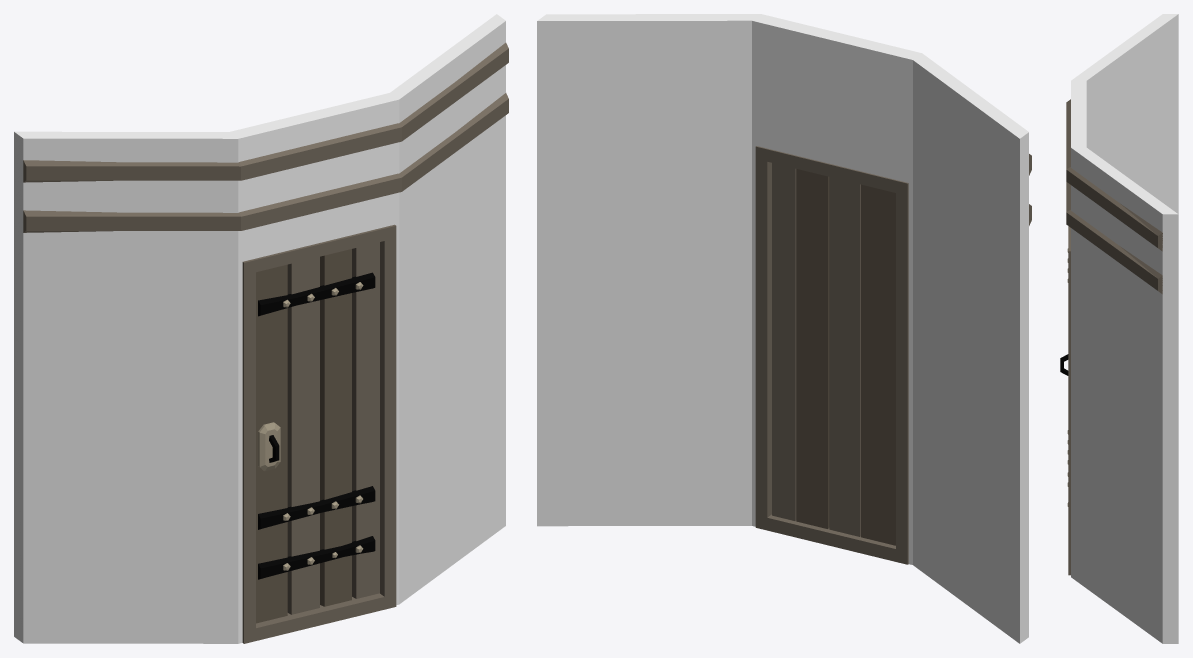
File: DOOR_06_Balkon_1.glb
The picture shows the model from 3 angles, left to right: view 1: azimuth 30°, elevation 25°; view 2: azimuth 150°, elevation 25°; view 3: azimuth 270°, elevation 25°; orthographic projection. The views are drawn at different scales.
Visible parts, largest first — view 1: DOOR_06_Balkon_1; view 2: DOOR_06_Balkon_1; view 3: DOOR_06_Balkon_1.
Boxes of the visible parts, bbox=[...] form: DOOR_06_Balkon_1: bbox=[14, 14, 508, 643]; DOOR_06_Balkon_1: bbox=[537, 14, 1031, 643]; DOOR_06_Balkon_1: bbox=[1060, 14, 1178, 643].
Size of the model in its own units: 3 by 3 by 0.7481.
1 material, 1 textured.
